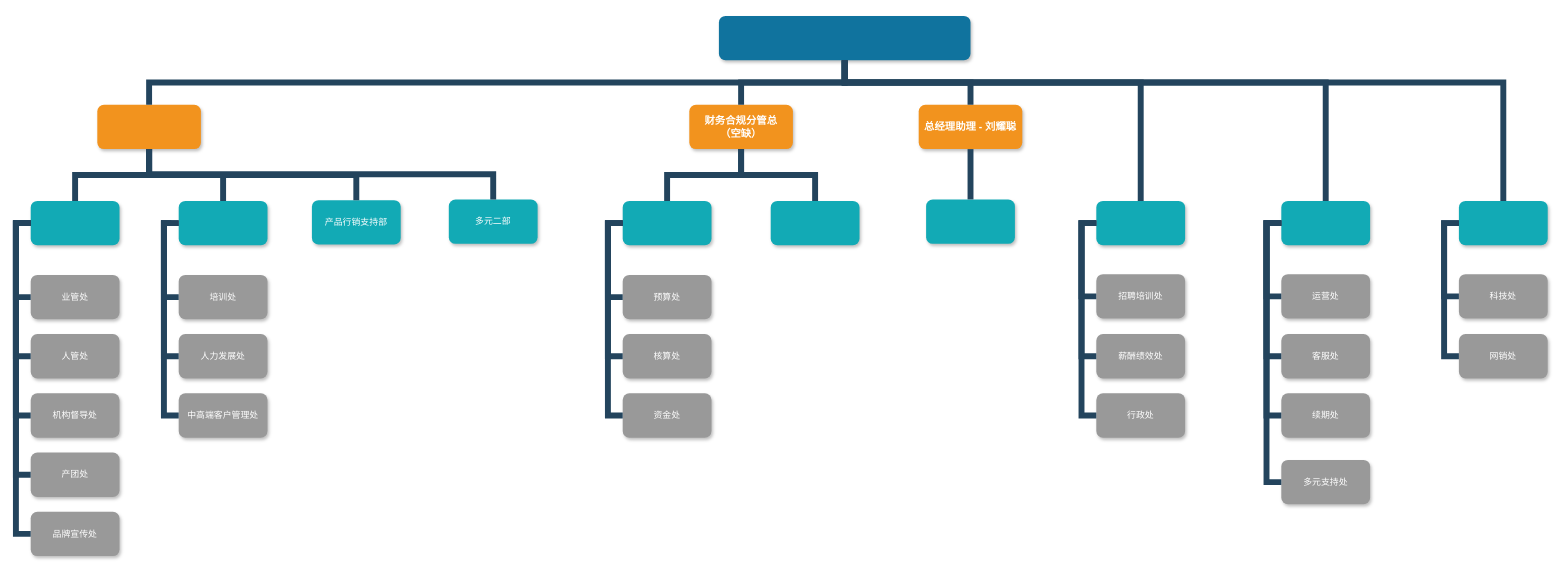
Image size: 1564x574. Some labels were removed from this diagram. Here are the shapes that lost their labels. From the top down, the centre of each, then its label:
(x=845, y=39): 副总经理 - 贾福红
(x=149, y=127): 副总经理 - 卢健
(x=75, y=224): 代理人渠道管理部
(x=223, y=224): 培训部
(x=667, y=224): 财务部
(x=815, y=224): 合规与风险管理部
(x=971, y=222): 多元一部
(x=1141, y=224): 人事行政部
(x=1326, y=224): 综合运营部
(x=1504, y=224): 数字化部
